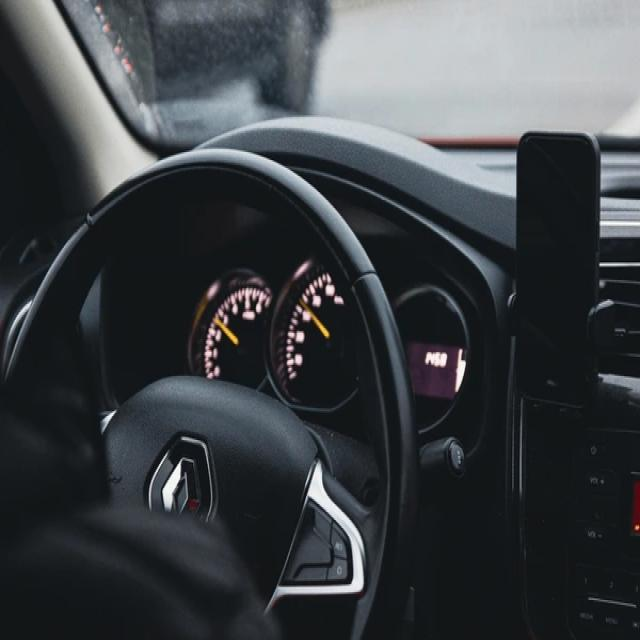renault: (158, 440, 200, 530)
